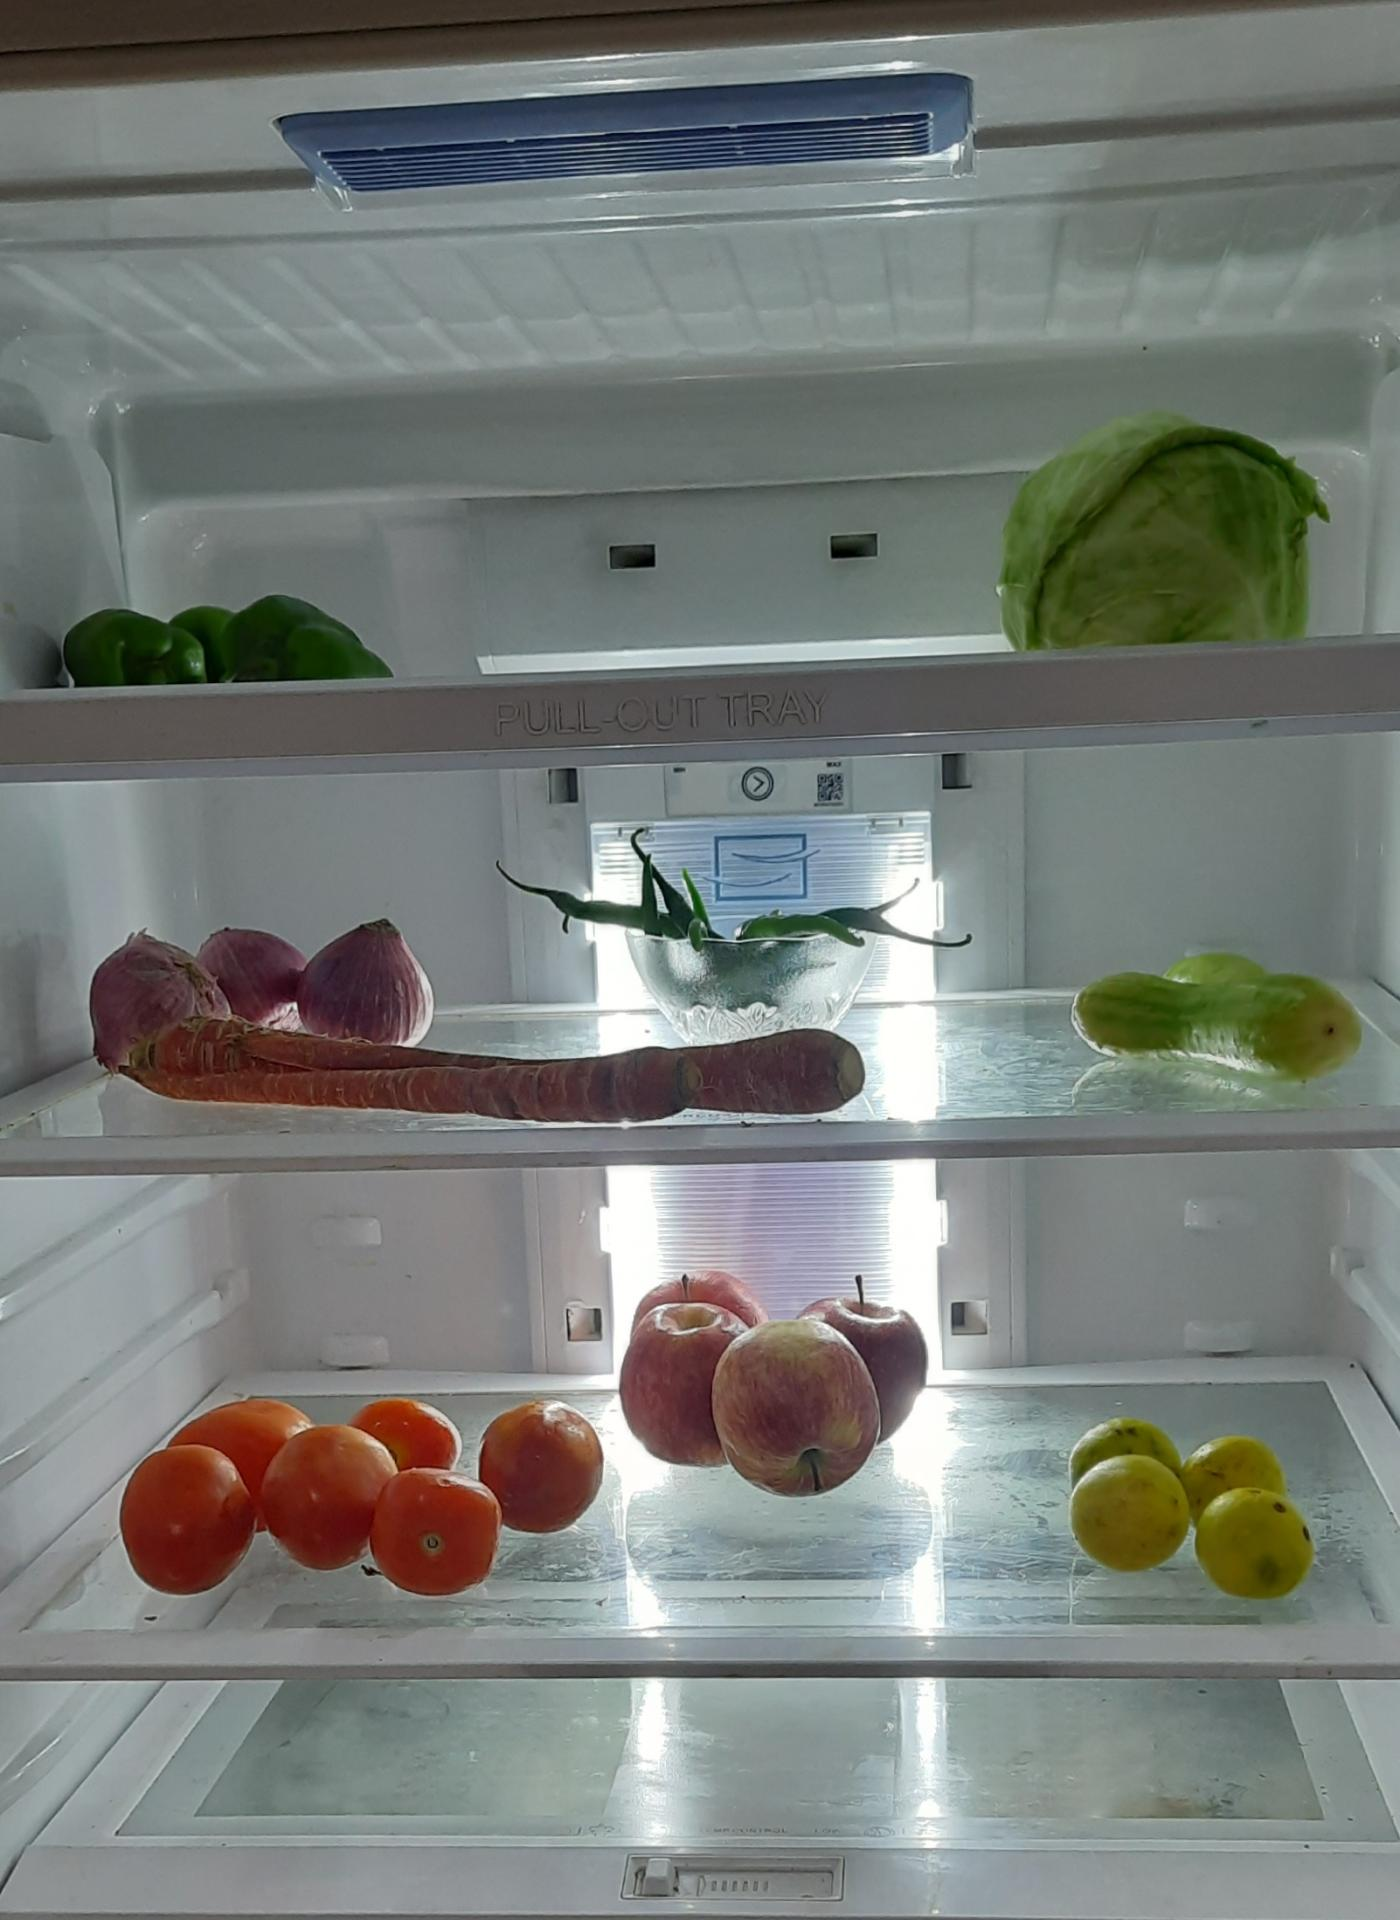apple: (620, 1270, 926, 1498)
cabbage: (1005, 414, 1311, 650)
capsicum: (46, 574, 388, 677)
carrots: (116, 1036, 868, 1166)
chillies: (543, 839, 920, 1012)
cucumber: (1072, 948, 1373, 1081)
lemon: (1060, 1407, 1317, 1600)
onion: (92, 920, 431, 1052)
tomato: (124, 1389, 611, 1591)
